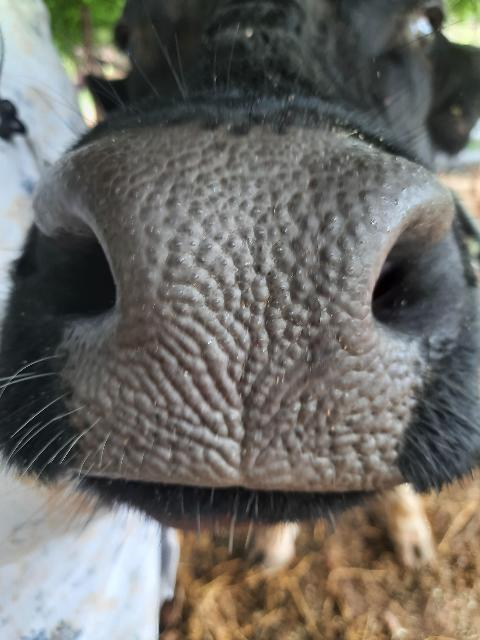Muzzle: (118, 143, 366, 461)
